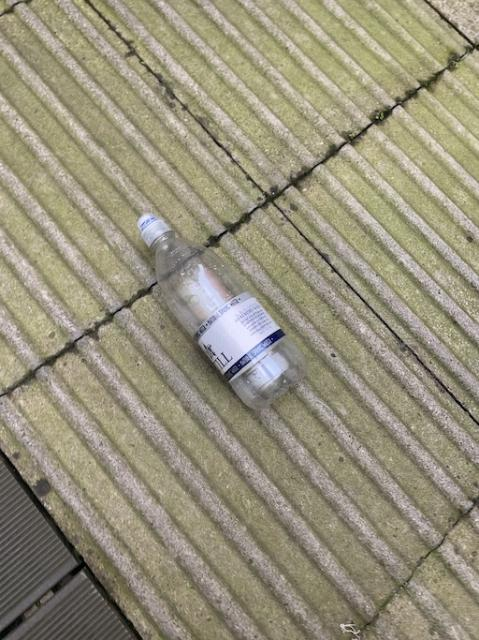plastic: (137, 212, 305, 408)
